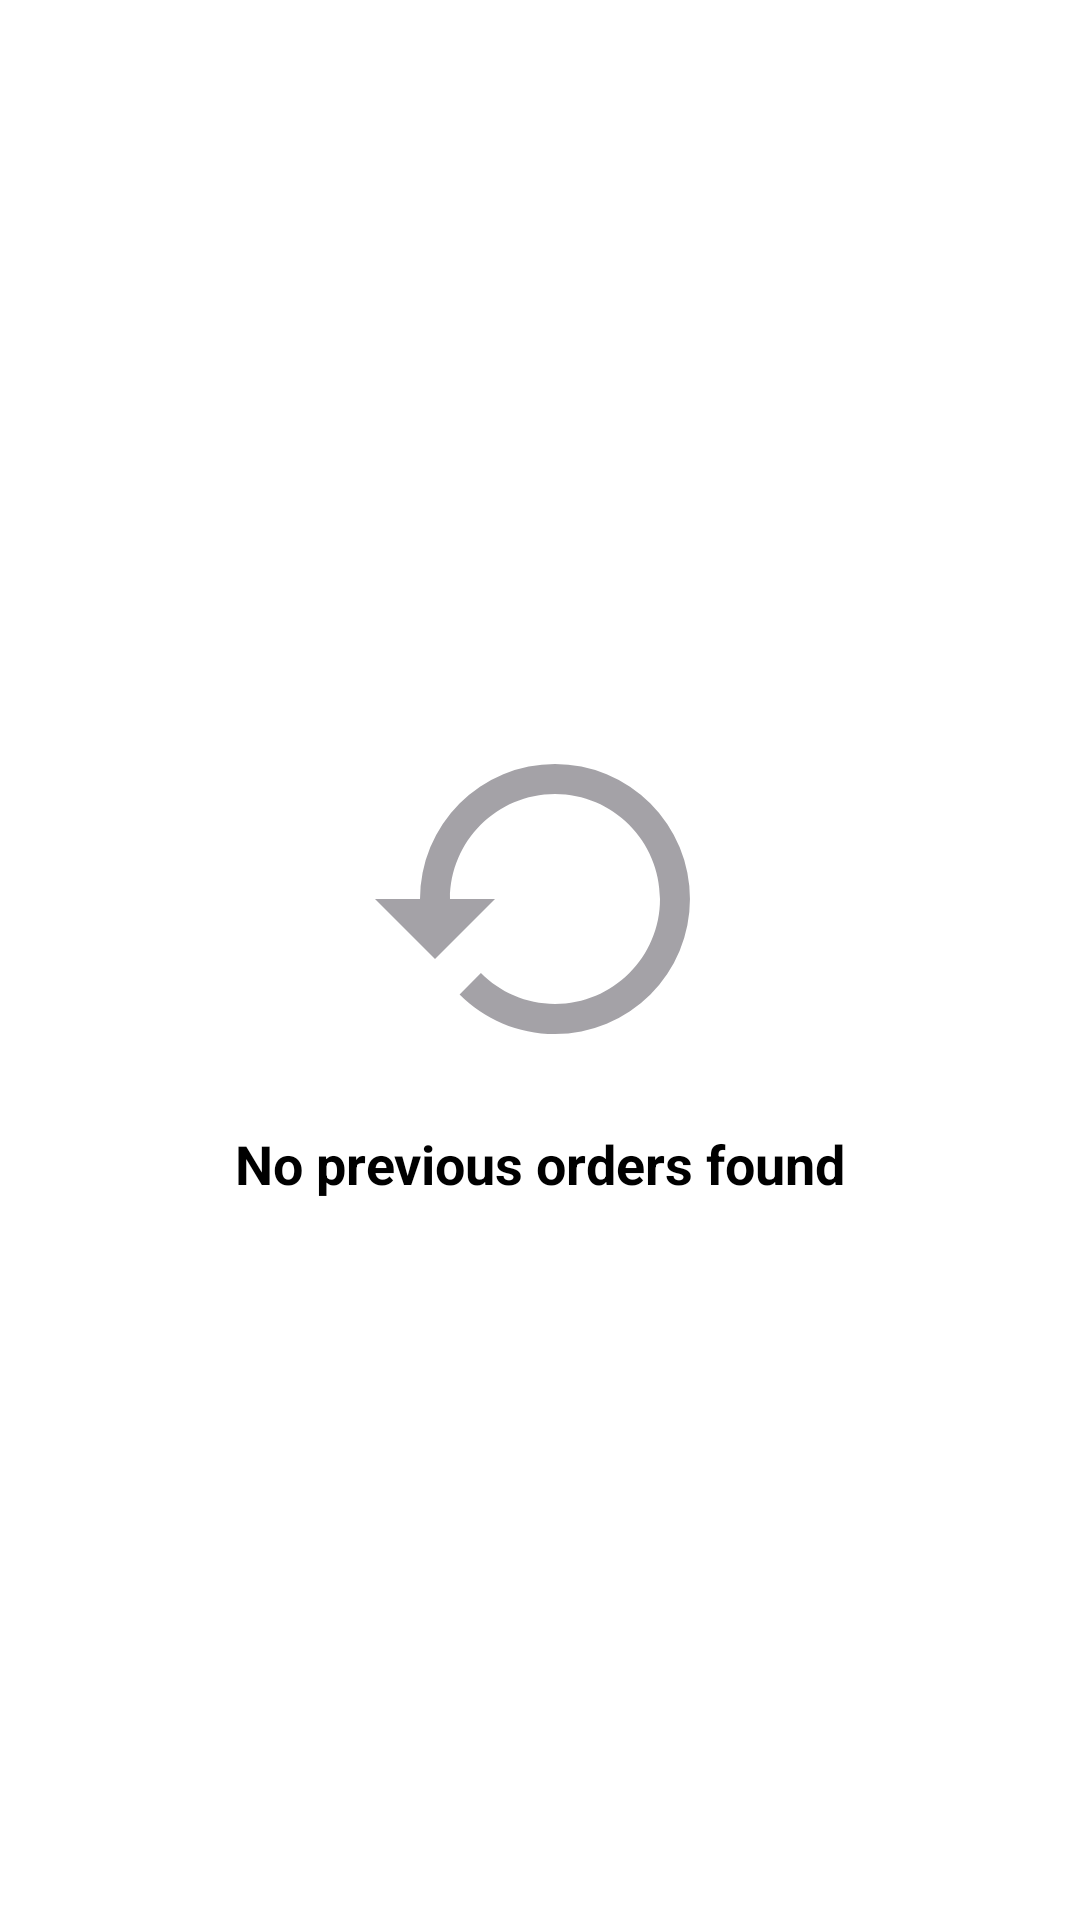

Icon click points for this 1080×1920 phone screenshot, format (x=x, y=y):
order again: (x=532, y=899)
